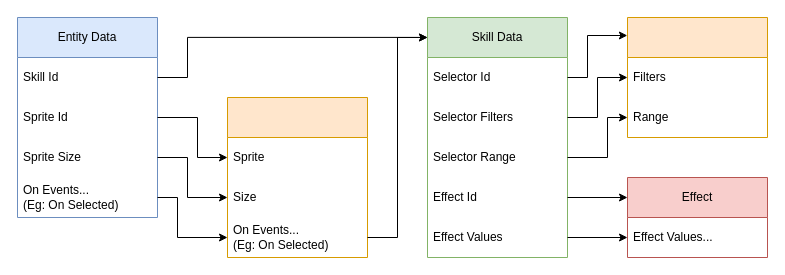
Some shapes in this 785 by 275 pixel diagram are drawn without their labels. The box of each missing label's shape, as (x1, y1, x2, y2) in pixels:
Entity: (226, 96, 368, 258)
Selector: (626, 16, 768, 138)
